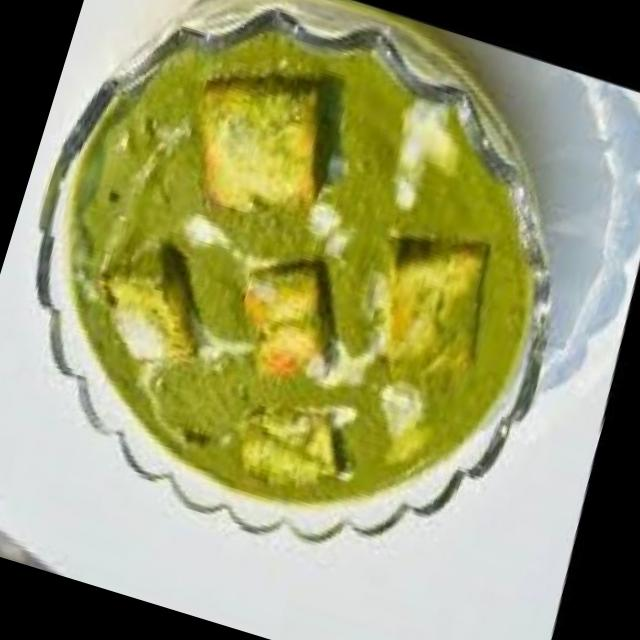palak_paneer: (0, 0, 606, 565)
